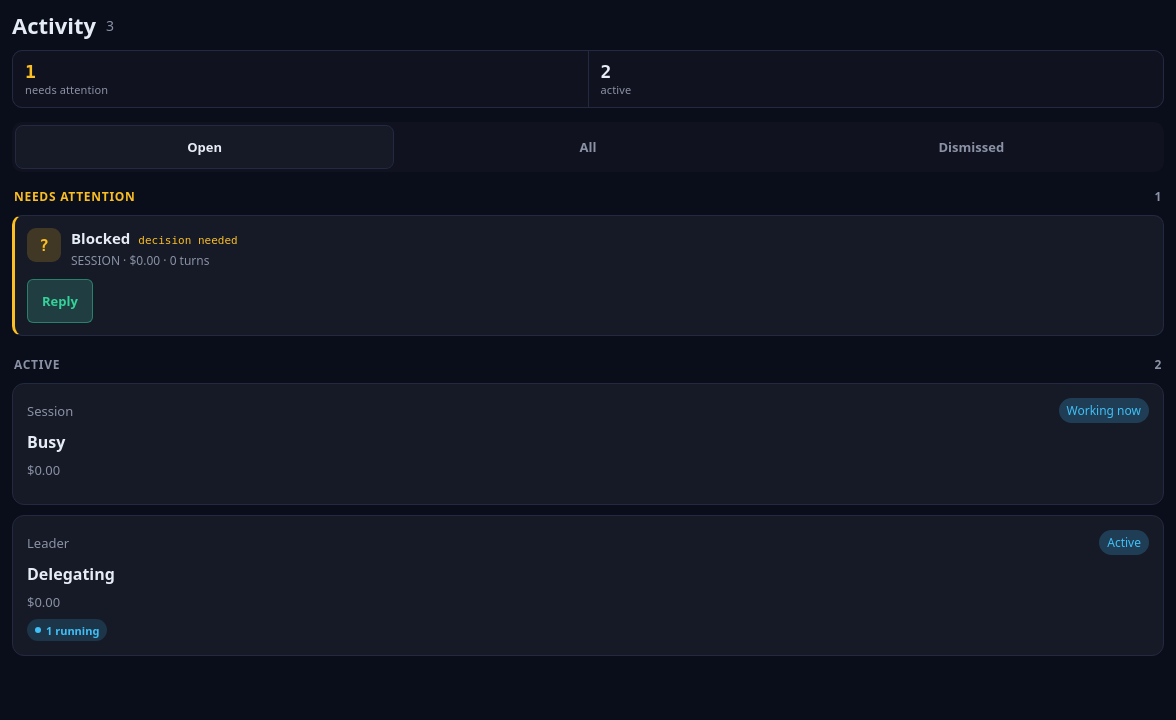
Scenario: ActivityScreen › summarizes needs attention and active without a waiting category
Expected: the 1st text "1" is shown, [25, 61, 36, 82]
Expected: the 1st text "2" is shown, [600, 61, 611, 82]
Click the button with aria-label "needs attention: 1. filter activity" at [67, 90], box [13, 51, 588, 107]
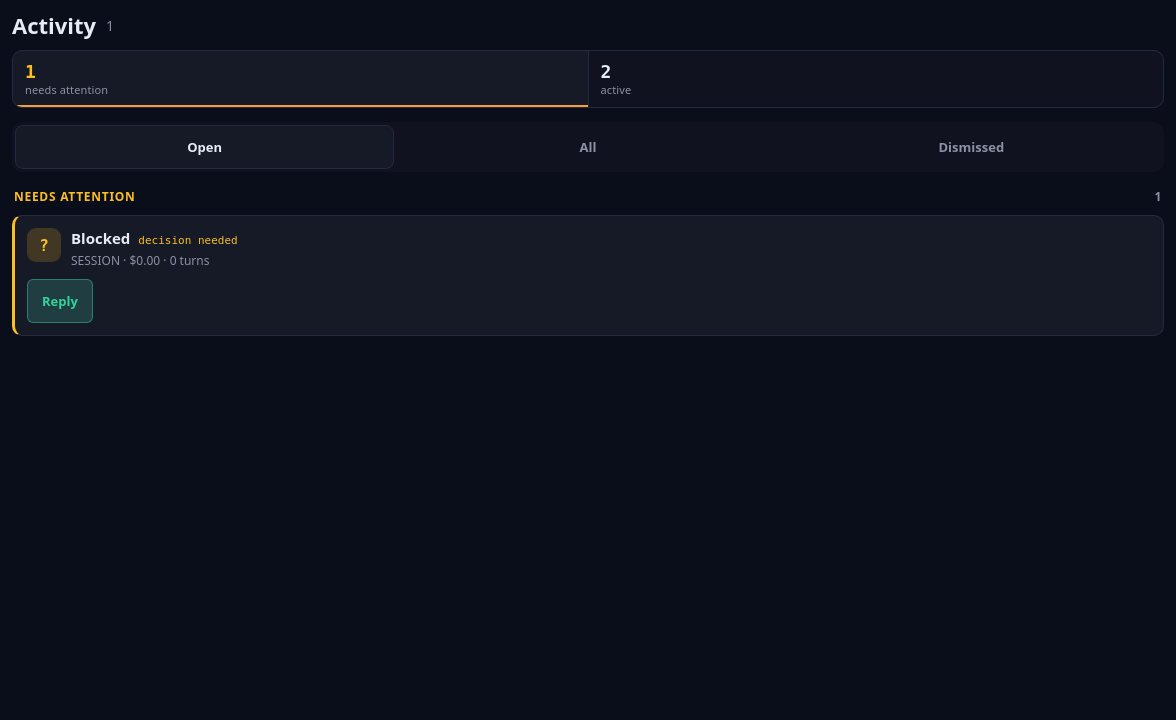
Expected: the text "Blocked" is shown, [71, 228, 130, 248]
Expected: the button "Delegating" is gone
Click the button with aria-label "active: 2. filter activity" at [616, 90], box [588, 51, 1163, 107]
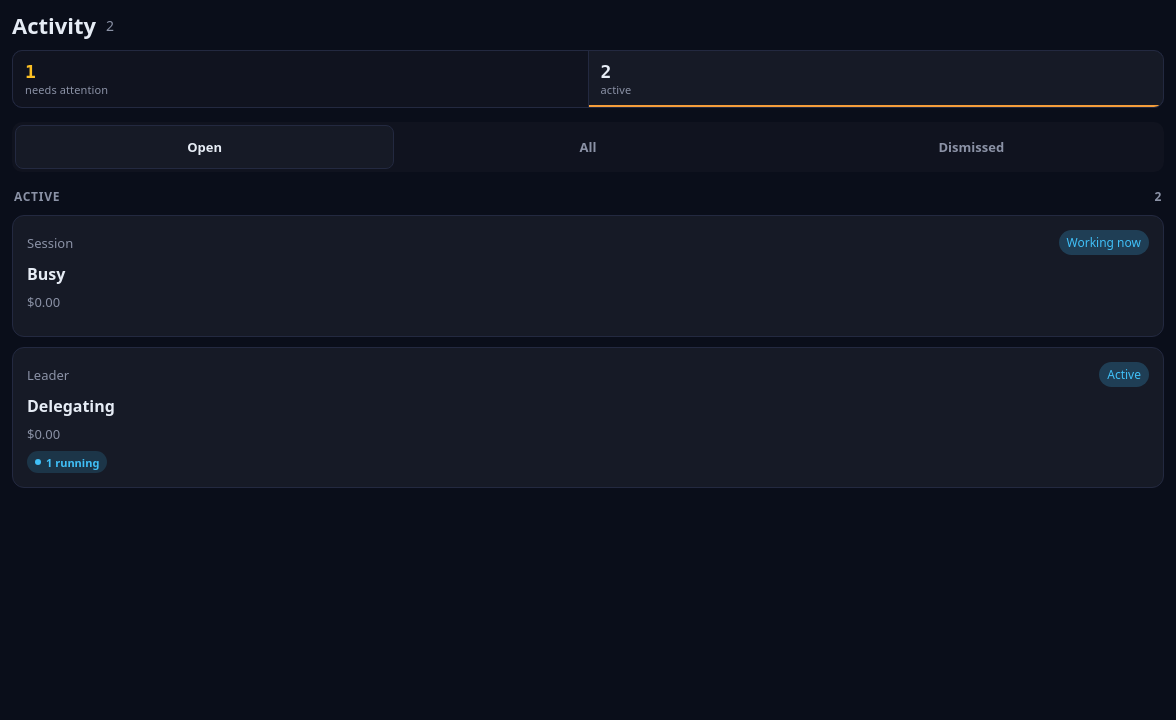
Expected: the text "Delegating" is shown, [27, 395, 115, 417]
Expected: the button "Blocked" is gone
